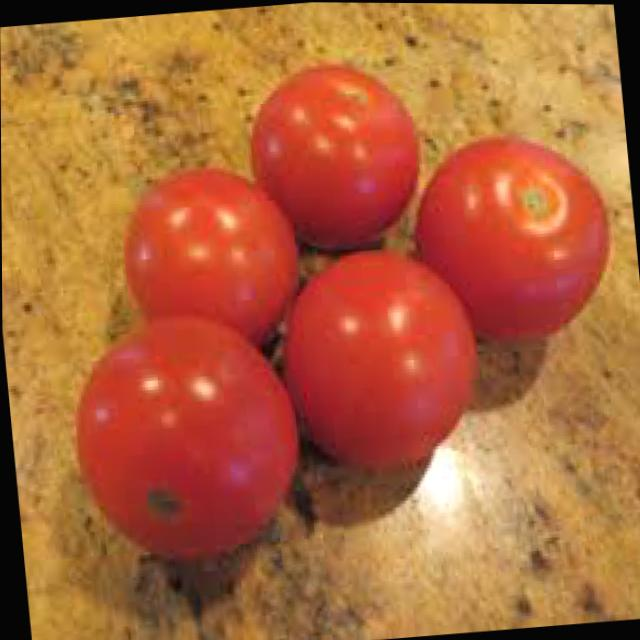tomato: (66, 304, 310, 569), (274, 241, 487, 476), (403, 126, 621, 353), (240, 56, 430, 256), (113, 160, 305, 355)
